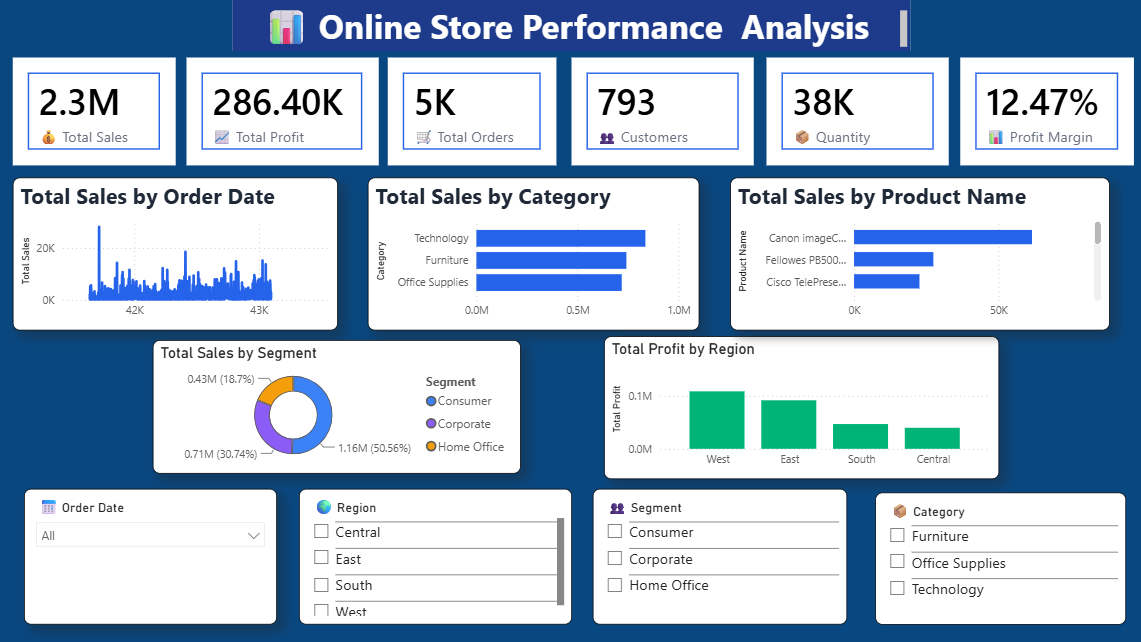

The dashboard page shown, as its layout file describes it:
{"tool":"powerbi","page":{"name":"Dashboard","canvas":[1280,720],"ordinal":0},"visuals":[{"type":"cardVisual","fields":{"Data":["Fact_Sales.Total Sales"]},"box":[15.1,64.4,182.1,120.5],"z":0},{"type":"lineChart","fields":{"Category":["Fact_Sales.Order Date"],"Y":["Fact_Sales.Total Sales"]},"box":[15.1,198.5,364.2,171.2],"z":1000},{"type":"clusteredBarChart","fields":{"Category":["Fact_Sales.Category"],"Y":["Fact_Sales.Total Sales"]},"box":[412.2,198.5,371.1,171.2],"z":2000},{"type":"clusteredColumnChart","fields":{"Category":["Fact_Sales.Region"],"Y":["Fact_Sales.Total Profit"]},"box":[677.8,376.6,442.3,160.2],"z":3000},{"type":"donutChart","fields":{"Category":["Fact_Sales.Segment"],"Y":["Fact_Sales.Total Sales"]},"box":[172.5,380.7,412.2,149.3],"z":4000},{"type":"clusteredBarChart","fields":{"Category":["Fact_Sales.Product Name"],"Y":["Fact_Sales.Total Sales"]},"box":[818.8,198.5,424.5,171.2],"z":5000},{"type":"slicer","fields":{"Values":["Fact_Sales.Region"]},"box":[335.5,547.7,305.3,152],"z":6000},{"type":"slicer","fields":{"Values":["Fact_Sales.Category"]},"box":[980.4,551.8,280.7,147.9],"z":7000},{"type":"slicer","fields":{"Values":["Fact_Sales.Segment"]},"box":[664.1,547.7,284.8,152],"z":8000},{"type":"cardVisual","fields":{"Data":["Fact_Sales.Total Profit"]},"box":[209.5,64.4,215,120.5],"z":9000},{"type":"cardVisual","fields":{"Data":["Fact_Sales.Total Orders"]},"box":[435.4,64.4,189,120.5],"z":10000},{"type":"cardVisual","fields":{"Data":["Fact_Sales.Total Customers"]},"box":[640.8,64.4,204,120.5],"z":11000},{"type":"cardVisual","fields":{"Data":["Fact_Sales.Total Quantity"]},"box":[858.5,64.4,204,120.5],"z":12000},{"type":"cardVisual","fields":{"Data":["Fact_Sales.Profit Margin %"]},"box":[1076.3,64.4,194.4,120.5],"z":13000},{"type":"slicer","fields":{"Values":["Fact_Sales.Order Date"]},"box":[27.4,547.7,283.4,152],"z":14000},{"type":"textbox","box":[261.4,0,758.6,57.1],"z":15000},{"type":"shape","box":[261.5,0,758.6,57.5],"z":16000},{"type":"textbox","box":[258,2.7,764.1,54.8],"z":18000}]}

Visuals, with their boxes in screenshot pixels (x1, y1, x2, y2), scaled from the page's 1280x720 canvas onto the 1141x642 screenshot:
cardVisual - Fact_Sales.Total Sales: <bbox>13, 57, 176, 165</bbox>
lineChart - Fact_Sales.Order Date x Fact_Sales.Total Sales: <bbox>13, 177, 338, 330</bbox>
clusteredBarChart - Fact_Sales.Category x Fact_Sales.Total Sales: <bbox>367, 177, 698, 330</bbox>
clusteredColumnChart - Fact_Sales.Region x Fact_Sales.Total Profit: <bbox>604, 336, 998, 479</bbox>
donutChart - Fact_Sales.Segment x Fact_Sales.Total Sales: <bbox>154, 339, 521, 473</bbox>
clusteredBarChart - Fact_Sales.Product Name x Fact_Sales.Total Sales: <bbox>730, 177, 1108, 330</bbox>
slicer - Fact_Sales.Region: <bbox>299, 488, 571, 624</bbox>
slicer - Fact_Sales.Category: <bbox>874, 492, 1124, 624</bbox>
slicer - Fact_Sales.Segment: <bbox>592, 488, 846, 624</bbox>
cardVisual - Fact_Sales.Total Profit: <bbox>187, 57, 378, 165</bbox>
cardVisual - Fact_Sales.Total Orders: <bbox>388, 57, 557, 165</bbox>
cardVisual - Fact_Sales.Total Customers: <bbox>571, 57, 753, 165</bbox>
cardVisual - Fact_Sales.Total Quantity: <bbox>765, 57, 947, 165</bbox>
cardVisual - Fact_Sales.Profit Margin %: <bbox>959, 57, 1133, 165</bbox>
slicer - Fact_Sales.Order Date: <bbox>24, 488, 277, 624</bbox>
textbox: <bbox>233, 0, 909, 51</bbox>
shape: <bbox>233, 0, 909, 51</bbox>
textbox: <bbox>230, 2, 911, 51</bbox>
